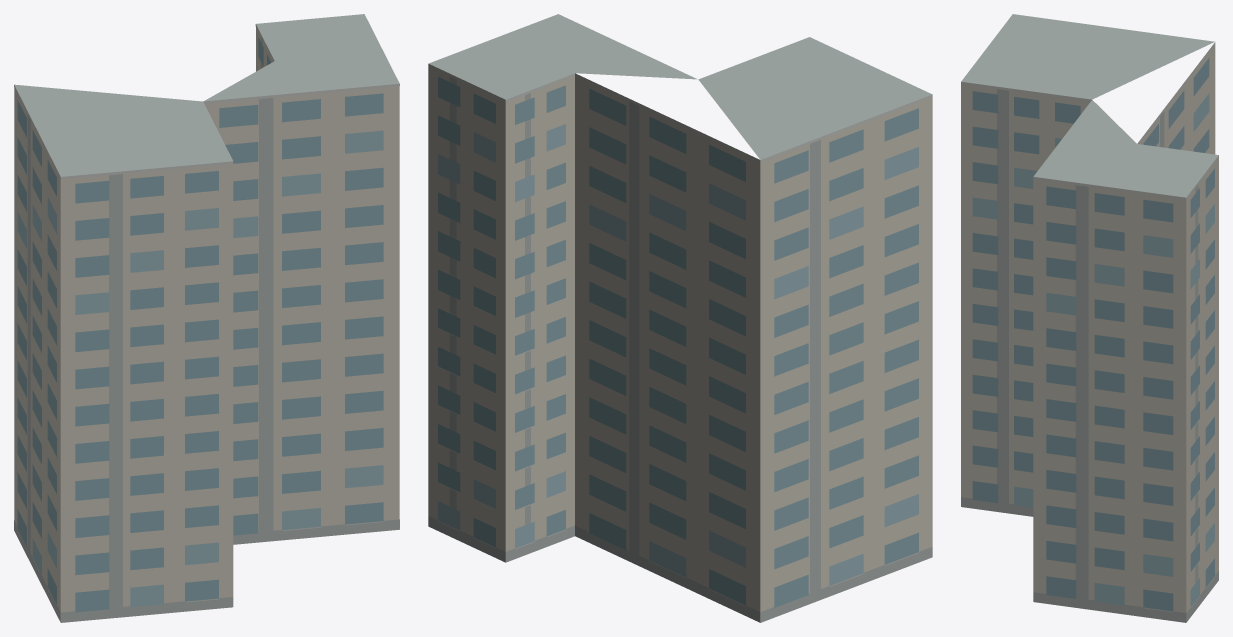
Rendered from residential-a54da757-732e-42be-9ad8-daa47764ab90.glb.
The picture shows the model from 3 angles, left to right: view 1: azimuth 30°, elevation 25°; view 2: azimuth 150°, elevation 25°; view 3: azimuth 270°, elevation 25°; orthographic projection. The views are drawn at different scales.
Visible parts, largest first — view 1: residential-a54da757-732e-42be-9ad8-daa47764ab90.tmp; view 2: residential-a54da757-732e-42be-9ad8-daa47764ab90.tmp; view 3: residential-a54da757-732e-42be-9ad8-daa47764ab90.tmp.
Part boxes in pixels (left/top/right/bottom): residential-a54da757-732e-42be-9ad8-daa47764ab90.tmp: left=14, top=14, right=399, bottom=622; residential-a54da757-732e-42be-9ad8-daa47764ab90.tmp: left=428, top=14, right=932, bottom=622; residential-a54da757-732e-42be-9ad8-daa47764ab90.tmp: left=961, top=14, right=1218, bottom=622.
Bounding box in the file's own units: 37.98 × 41 × 22.54.
